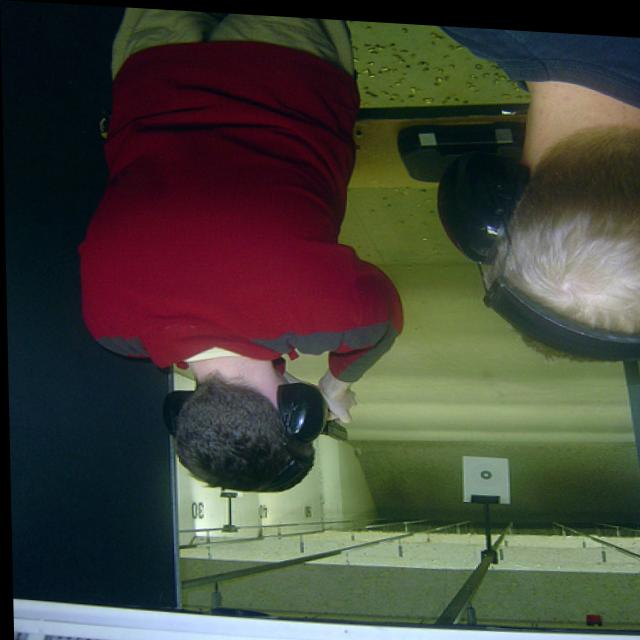handgun: (319, 396, 350, 442)
